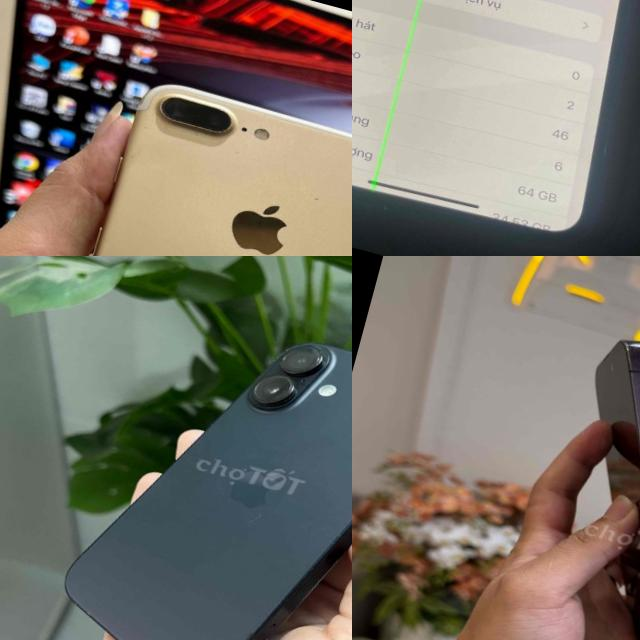scratch: (139, 102, 231, 154), (57, 591, 113, 640), (293, 180, 335, 210), (324, 525, 352, 561), (312, 345, 338, 370)
screen_defect: (353, 0, 506, 192)
